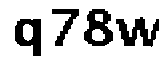7: (46, 6, 79, 49)
8: (84, 6, 113, 50)
q: (11, 17, 43, 60)
w: (115, 16, 160, 56)
